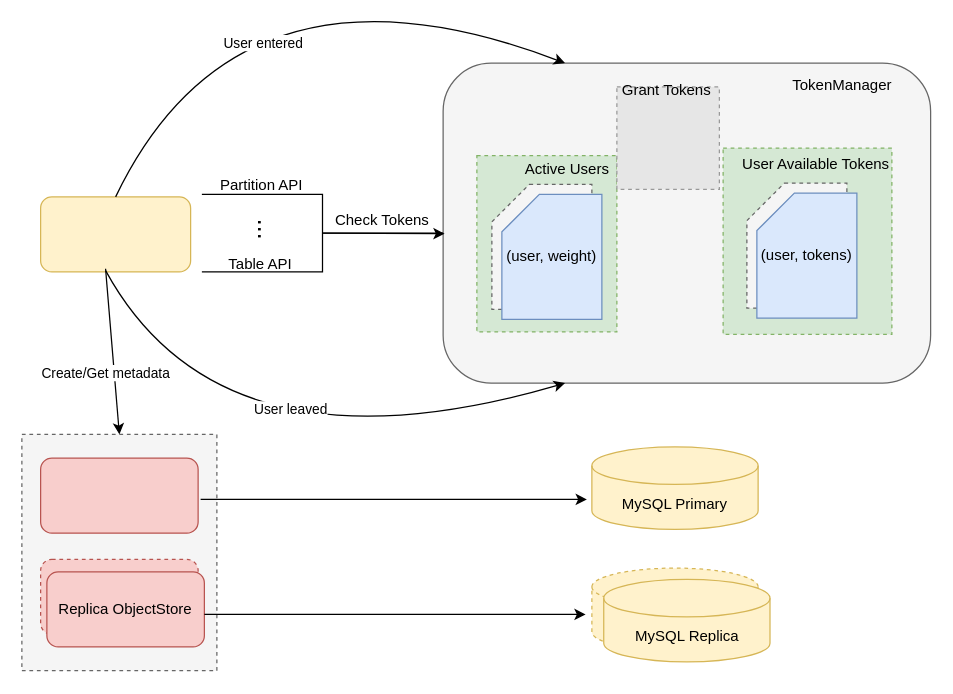
Some shapes in this 953 by 694 pixel diagram are drawn without their labels. Grey dashed boxes stand in for pictures. The shapes that lost their labels are listed below. From the top down, each one's box as (x1, y1, x2, y2) in pixels, then its label:
(39, 196, 191, 272): HMSHandler
(39, 457, 198, 533): Primary ObjectStore
